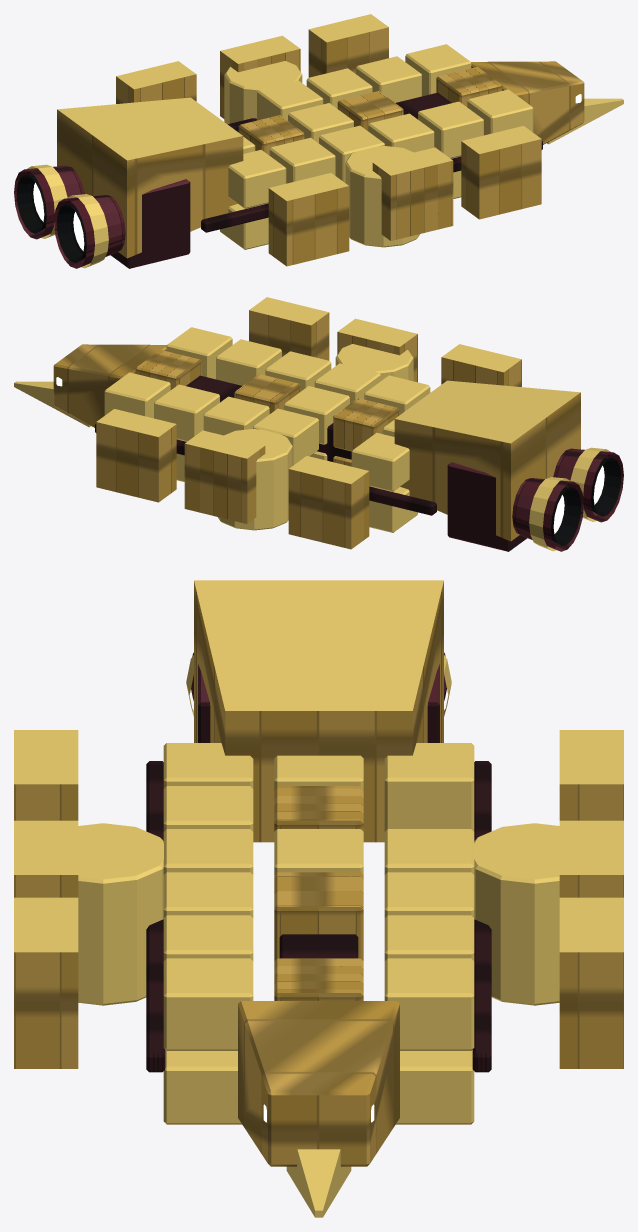
The model's file is supply_ship.glb.
3 views of the same model, one above another, from view 1: azimuth 30°, elevation 25°; view 2: azimuth 150°, elevation 25°; view 3: azimuth 270°, elevation 25° (orthographic). The views are drawn at different scales.
Parts seen in each view (by area): view 1: supply_ship; view 2: supply_ship; view 3: supply_ship.
Boxes of the visible parts, left/top/right/bottom form: supply_ship: left=14, top=14, right=623, bottom=268; supply_ship: left=14, top=297, right=623, bottom=551; supply_ship: left=14, top=580, right=623, bottom=1217.
Size of the model in its own units: 40 by 7.49 by 20.66.
1 material, 1 textured.
